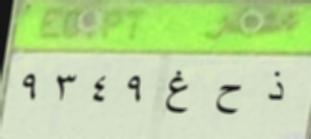3: (52, 68, 80, 108)
4: (89, 73, 113, 109)
7aa: (209, 81, 245, 119)
9: (122, 72, 149, 112), (19, 66, 42, 109)
ghayn: (156, 69, 194, 116)
zaal: (261, 67, 289, 110)
